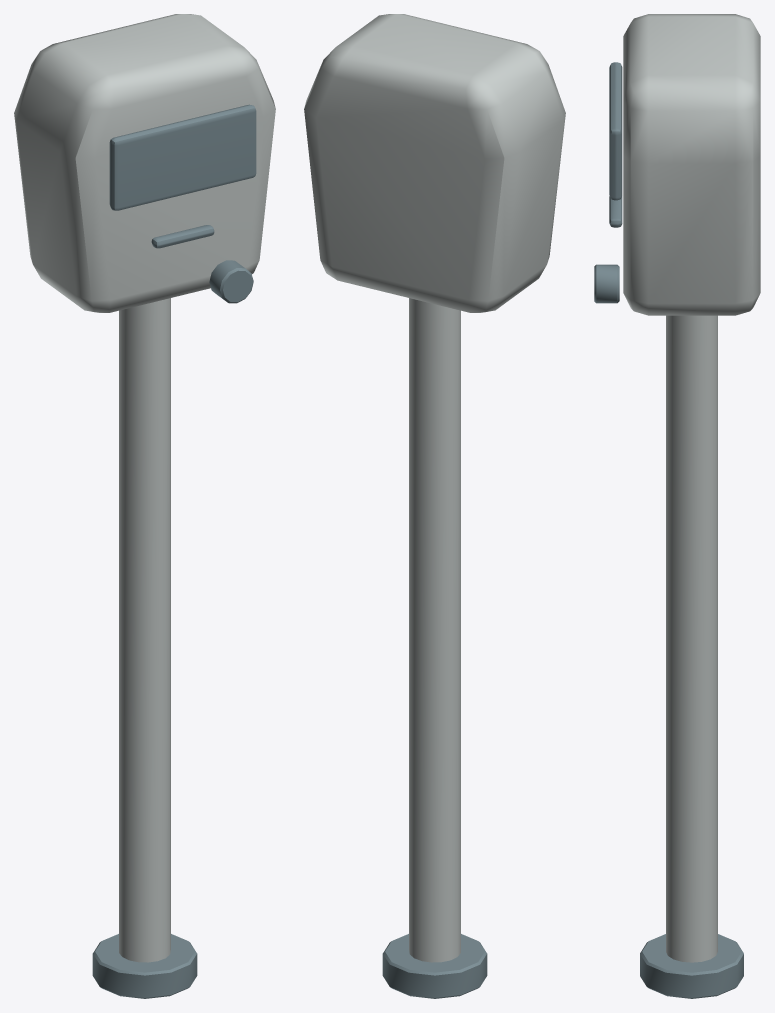
File: parking-meter.glb
3 renders of one model, left to right at view 1: azimuth 30°, elevation 25°; view 2: azimuth 150°, elevation 25°; view 3: azimuth 270°, elevation 25°, orthographic.
Visible parts, largest first — view 1: meter_head, meter_post, display, meter_post_foot, payment_knob, coin_slot; view 2: meter_head, meter_post, meter_post_foot; view 3: meter_head, meter_post, meter_post_foot, display, payment_knob, coin_slot.
Part boxes in pixels (<box>): meter_head: <box>14,14,275,312</box>; meter_post: <box>119,298,170,962</box>; display: <box>109,104,256,210</box>; meter_post_foot: <box>92,934,197,998</box>; payment_knob: <box>209,260,253,303</box>; coin_slot: <box>151,225,214,248</box>; meter_head: <box>304,14,565,312</box>; meter_post: <box>409,298,460,962</box>; meter_post_foot: <box>382,934,487,998</box>; meter_head: <box>623,14,760,315</box>; meter_post: <box>666,315,717,962</box>; meter_post_foot: <box>640,934,743,998</box>; display: <box>609,62,622,200</box>; payment_knob: <box>594,264,619,303</box>; coin_slot: <box>609,196,622,227</box>.
Bounding box in the file's own units: 0.34 × 1.42 × 0.23.
